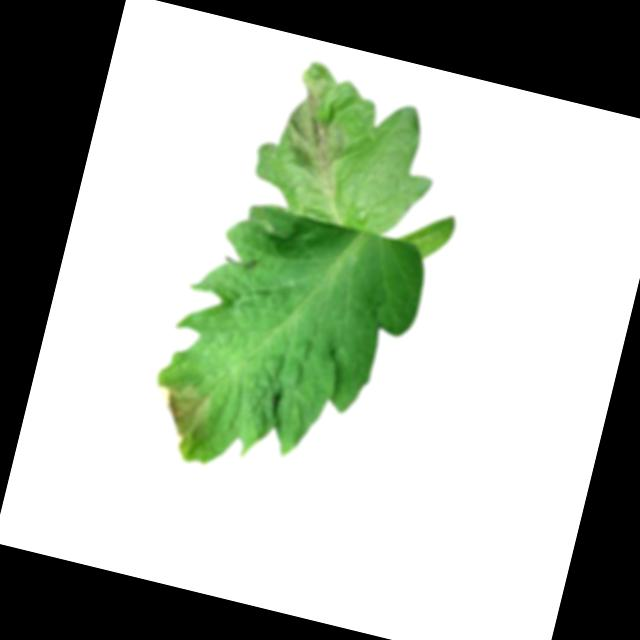Late_blight: (270, 67, 363, 188), (140, 374, 218, 452)
